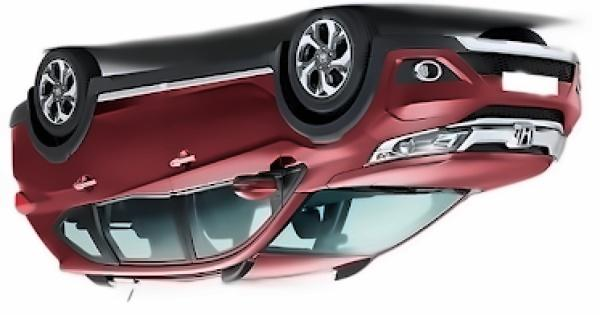Car hood: (323, 150, 556, 197)
Fender - -R-L-: (8, 97, 100, 245)
Front bumper: (363, 30, 588, 132)
Headlight - -L-: (360, 124, 473, 170)
Passenger-s door - -F-L-: (145, 40, 296, 271)
Passenger-s door - -R-L-: (67, 44, 190, 288)
Side bumper - -L-: (87, 41, 291, 137)
Side mirror - -L-: (232, 169, 287, 204)
